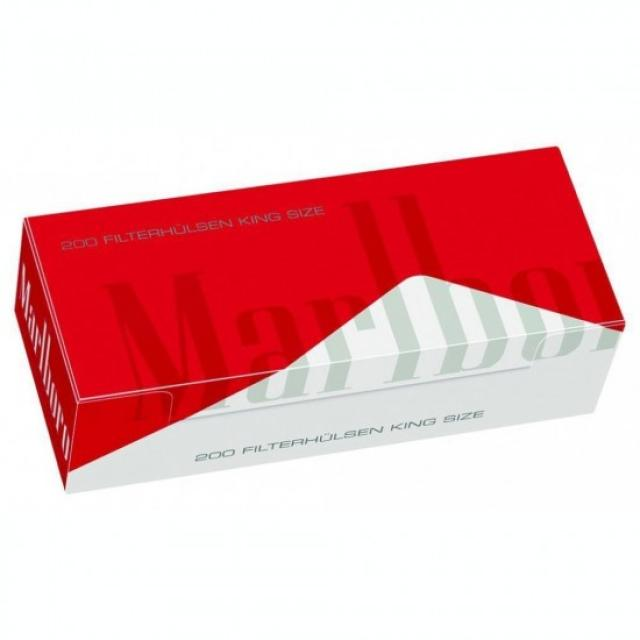marlboro: (11, 140, 626, 494)
